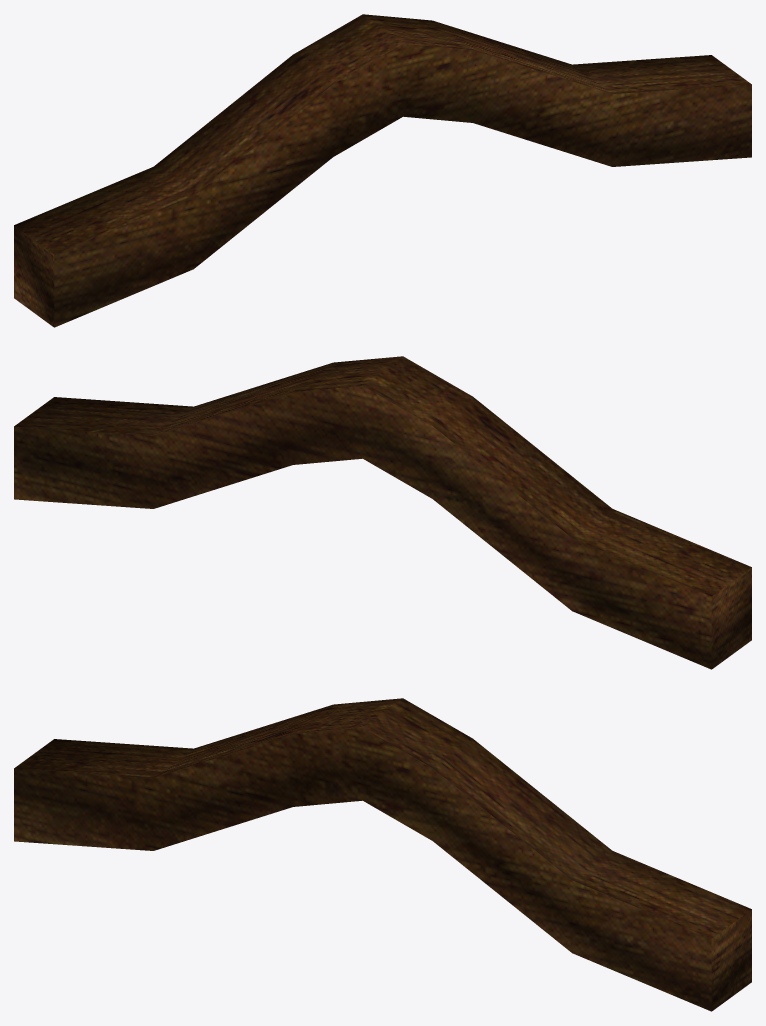
Rendered from CurvedWoodBeem.glb.
The picture shows the model from 3 angles, top to bottom: view 1: azimuth 30°, elevation 25°; view 2: azimuth 150°, elevation 25°; view 3: azimuth 330°, elevation 25°; orthographic projection.
Parts seen in each view (by area): view 1: Cube; view 2: Cube; view 3: Cube.
Boxes of the visible parts, x1=… form: Cube: x1=14, y1=14, x2=751, y2=327; Cube: x1=14, y1=356, x2=751, y2=669; Cube: x1=14, y1=698, x2=751, y2=1011.
Size of the model in its own units: 6 by 1.63 by 0.6.
1 material, 1 textured.
